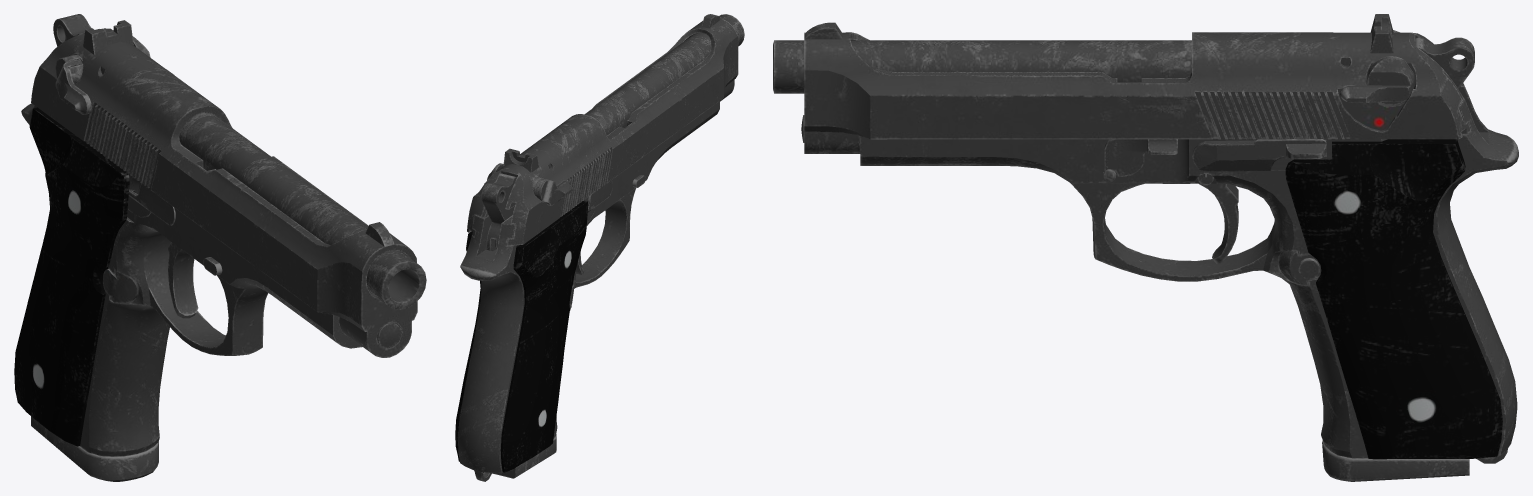
Rendered from SM_Pistol_M9.glb.
3 views of the same model, side by side, from view 1: azimuth 30°, elevation 25°; view 2: azimuth 150°, elevation 25°; view 3: azimuth 270°, elevation 25° (orthographic). The views are drawn at different scales.
Parts seen in each view (by area): view 1: SM_Pistol_M9; view 2: SM_Pistol_M9; view 3: SM_Pistol_M9.
Part boxes in pixels (x1=…): SM_Pistol_M9: x1=14, y1=14, x2=426, y2=481; SM_Pistol_M9: x1=455, y1=14, x2=744, y2=481; SM_Pistol_M9: x1=773, y1=14, x2=1518, y2=481.
Size of the model in its own units: 0.0368 by 0.1424 by 0.217.
Materials: 1 (1 with a texture image).
